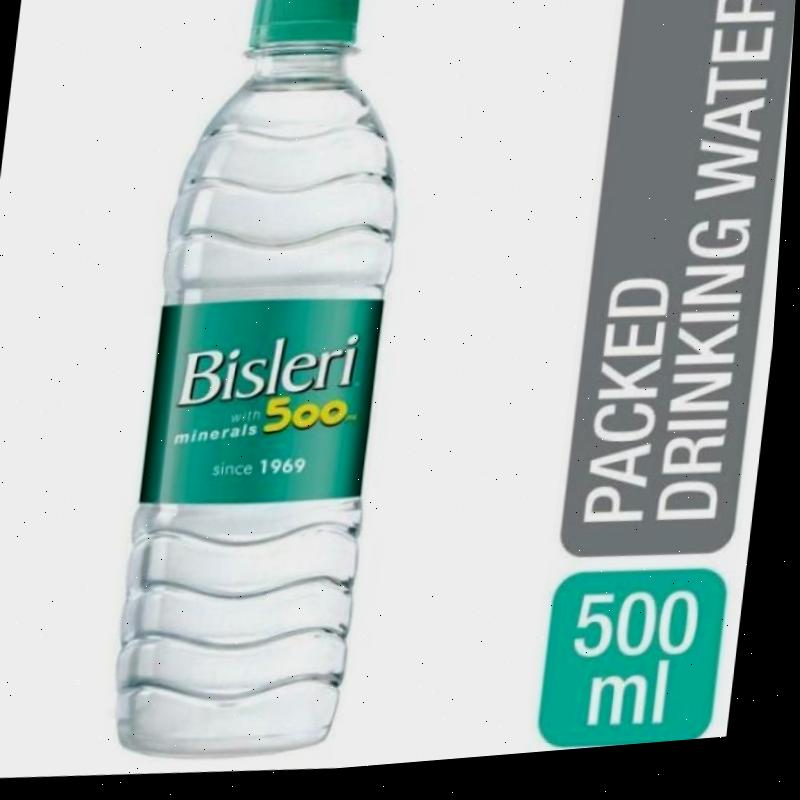botella: (111, 0, 423, 767)
